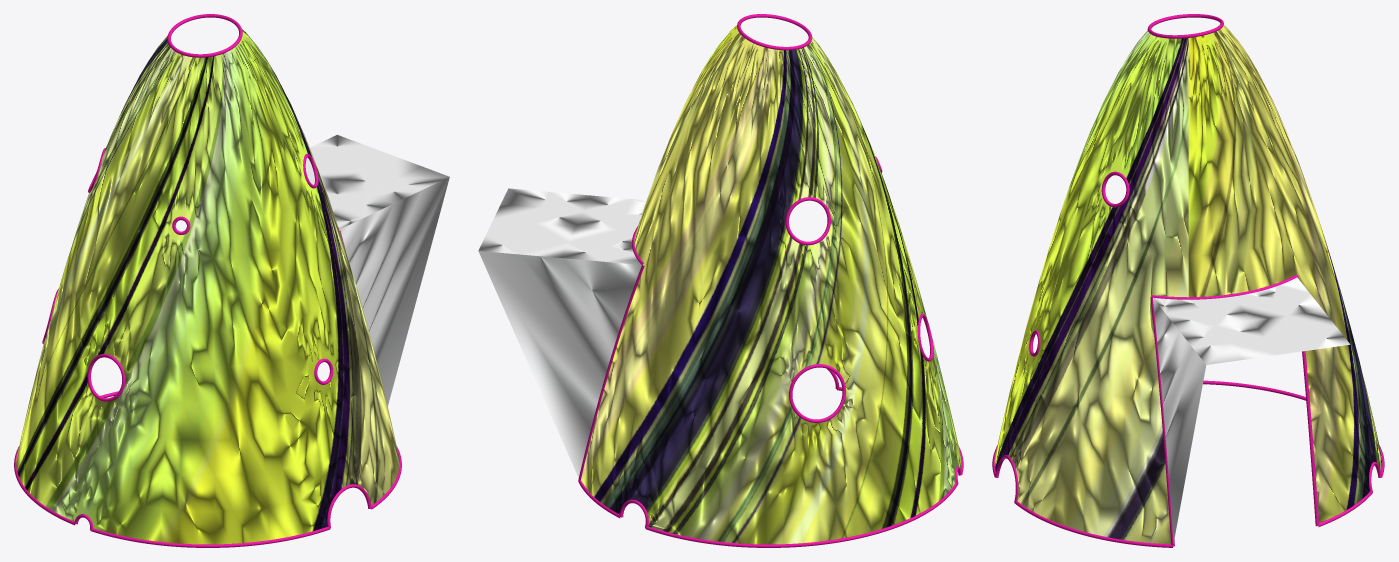
3 views of the same model, side by side, from view 1: azimuth 30°, elevation 25°; view 2: azimuth 150°, elevation 25°; view 3: azimuth 270°, elevation 25° (orthographic).
Parts seen in each view (by area): view 1: Solids, Solids_2, Canopy, Canopy_2, Openings; view 2: Solids, Canopy, Solids_2, Canopy_2, Openings; view 3: Solids, Canopy, Solids_2, Openings, Canopy_2.
Boxes of the visible parts, x1,y1,x2,y2 form: Solids: [16, 29, 399, 544]; Solids_2: [16, 30, 399, 543]; Canopy: [305, 134, 449, 406]; Canopy_2: [308, 137, 448, 399]; Openings: [14, 14, 401, 547]; Solids: [581, 25, 961, 544]; Canopy: [478, 188, 646, 477]; Solids_2: [582, 28, 959, 544]; Canopy_2: [479, 189, 645, 462]; Openings: [578, 14, 963, 547]; Solids: [994, 24, 1382, 544]; Canopy: [1153, 277, 1350, 542]; Solids_2: [995, 31, 1381, 543]; Openings: [992, 14, 1384, 547]; Canopy_2: [1153, 278, 1346, 539].
Bounding box in the file's own units: 8.18 × 8.21 × 6.56.
3 materials, 3 textured.
